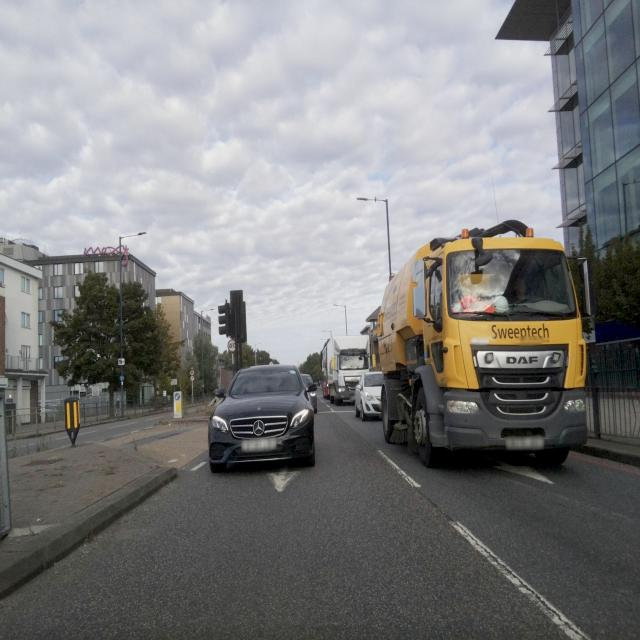car: (207, 363, 317, 472), (354, 370, 385, 419)
